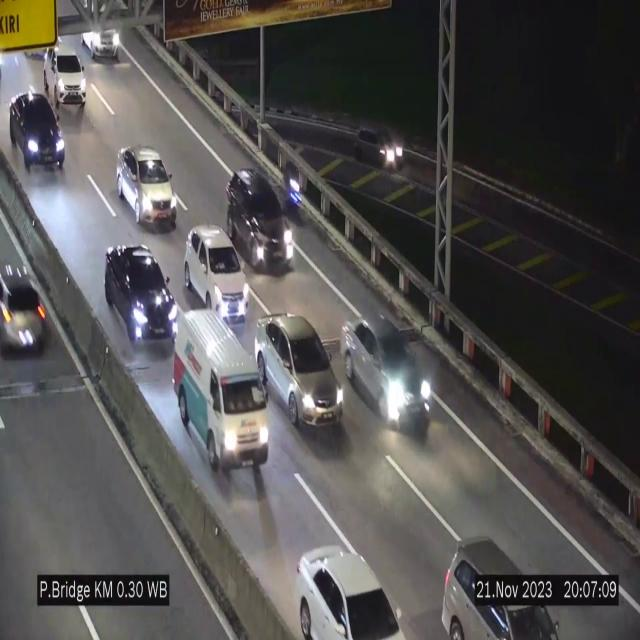Car: (172, 314, 270, 484), (433, 524, 563, 640), (252, 304, 352, 443), (294, 535, 398, 640), (344, 322, 434, 432), (104, 240, 184, 358), (229, 172, 295, 278), (184, 226, 248, 324), (0, 250, 56, 360), (117, 146, 177, 228), (8, 91, 68, 172), (352, 108, 410, 175), (42, 44, 90, 114), (80, 0, 120, 58)
Motorcycle: (282, 156, 302, 226)
